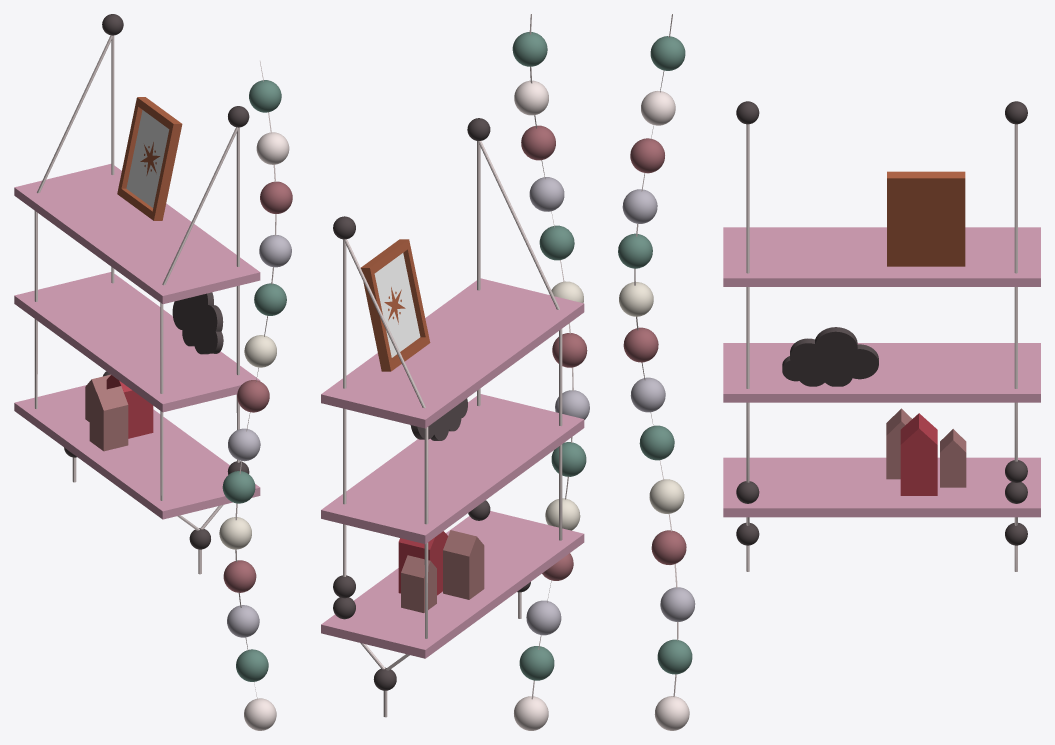
Rendered from Furn2_bookcase_right_color2_joined.fbx.
3 renders of one model, left to right at view 1: azimuth 30°, elevation 25°; view 2: azimuth 150°, elevation 25°; view 3: azimuth 270°, elevation 25°, orthographic. The views are drawn at different scales.
Visible parts, largest first — view 1: Сфера.020; view 2: Сфера.020; view 3: Сфера.020.
Boxes of the visible parts, x1,y1,x2,y2 form: Сфера.020: (14,14,292,730); Сфера.020: (321,14,589,730); Сфера.020: (618,14,1040,730).
Bounding box in the file's own units: 82.67 × 541 × 290.
